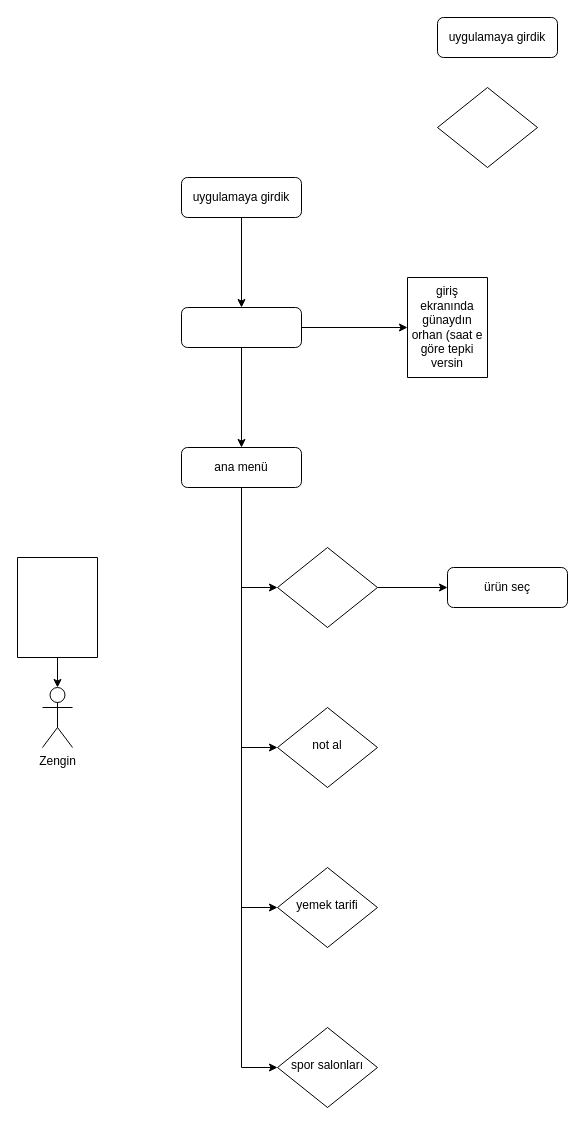
This 585x1125 diagram has some shape labels left out. The shapes that lost their labels are listed below. From the top down, each one's centre as x and y in pixels, then its label:
At point 487,127: "Lamp plugged in?".
At point 241,327: "olsun günaydın orhan (saat e göre tepki versin".
At point 57,607: "bu uygulamada zenginler için yaşam merkezi sunucam".
At point 327,587: "kalori hesaplama".
